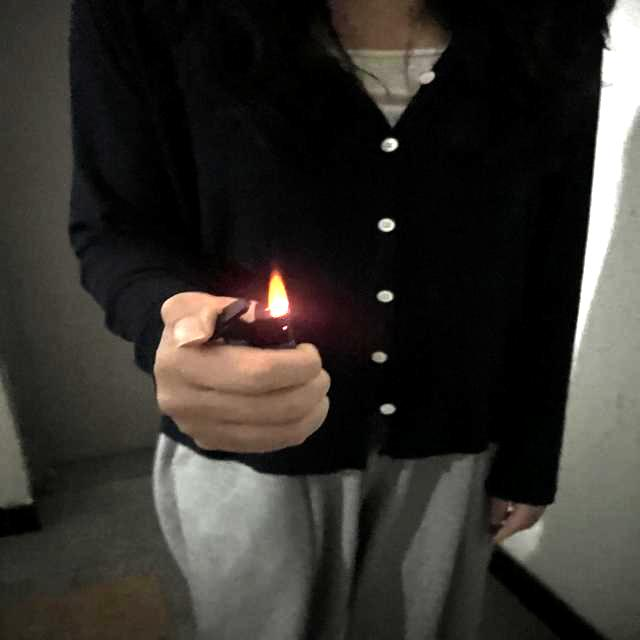fire: (264, 273, 292, 315)
